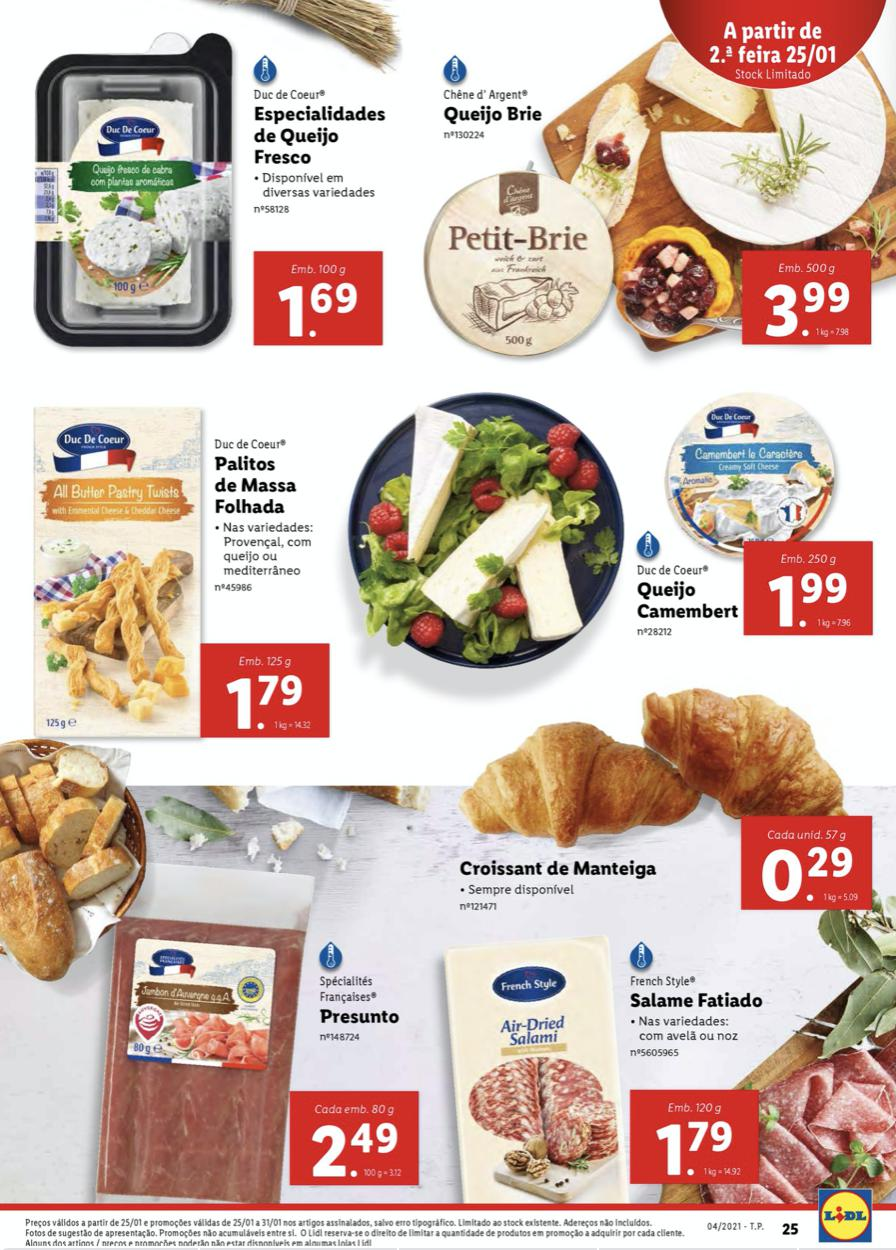name: (249, 101, 389, 169), (205, 450, 300, 518), (452, 855, 663, 884), (634, 578, 749, 627), (616, 989, 769, 1013), (436, 100, 545, 127), (308, 1003, 403, 1029)
price: (303, 1115, 403, 1186), (752, 840, 862, 903), (757, 275, 849, 341), (277, 275, 365, 341), (763, 569, 852, 633), (654, 1118, 739, 1180), (222, 670, 305, 733)
product: (416, 49, 892, 383), (42, 867, 440, 1201), (420, 669, 891, 932), (20, 36, 400, 360), (14, 381, 337, 752), (428, 921, 786, 1210), (608, 386, 891, 659)
